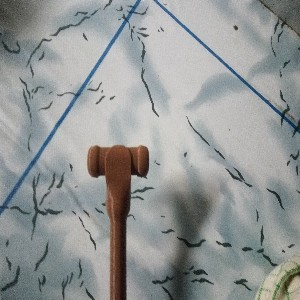palu: (87, 144, 149, 300)
